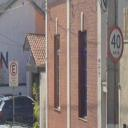speed_limit_40: (108, 25, 124, 63)
